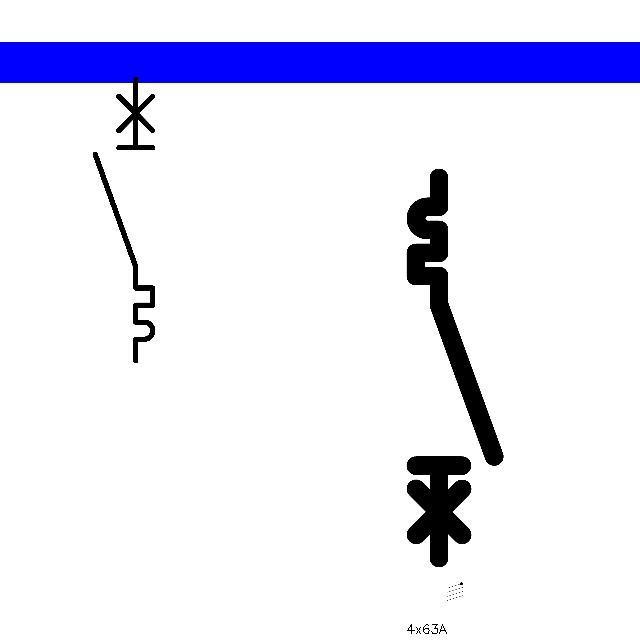interruptor_termomagnetico: (406, 168, 503, 567), (88, 72, 160, 368)
